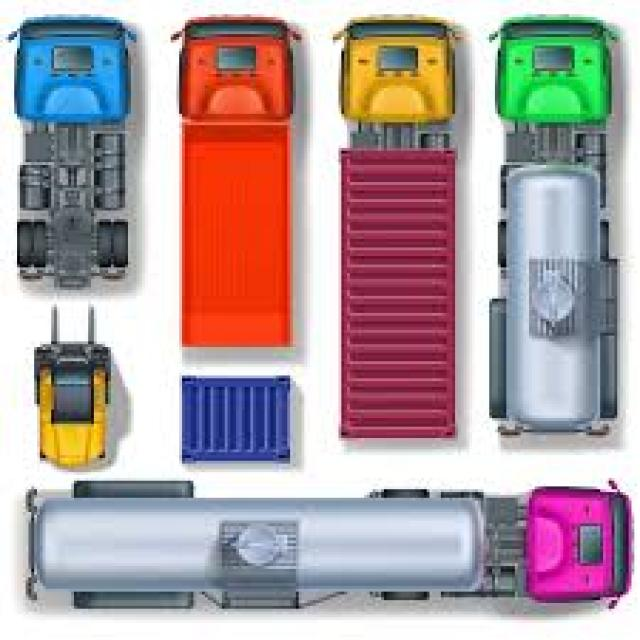truck: (24, 482, 639, 612), (499, 9, 626, 435), (335, 18, 453, 445), (176, 13, 290, 350)
